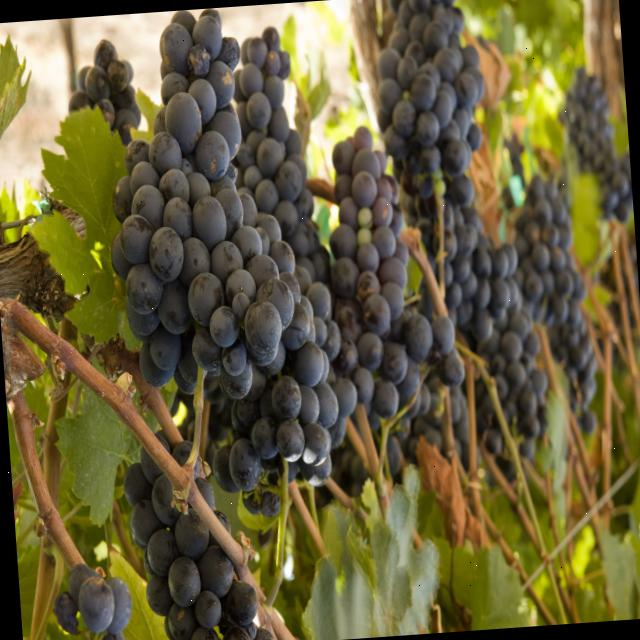grape: (109, 9, 337, 490), (376, 0, 484, 285), (123, 448, 273, 640), (468, 236, 546, 455), (328, 215, 406, 342), (447, 216, 479, 284)
